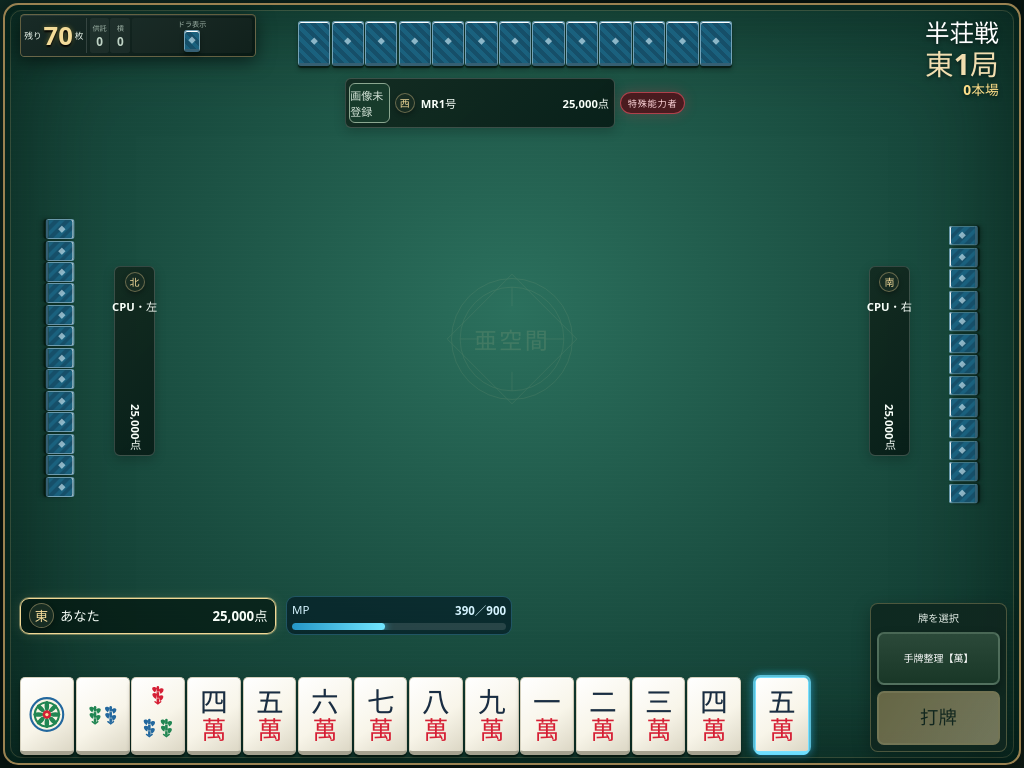
Test case: プレイヤースキル4-20の画面操作 › 確定でMPを消費し、同じ手番の再発動ボタンを消す
Click the button "手牌整理【萬】": click(938, 658) [877,632,1000,685]
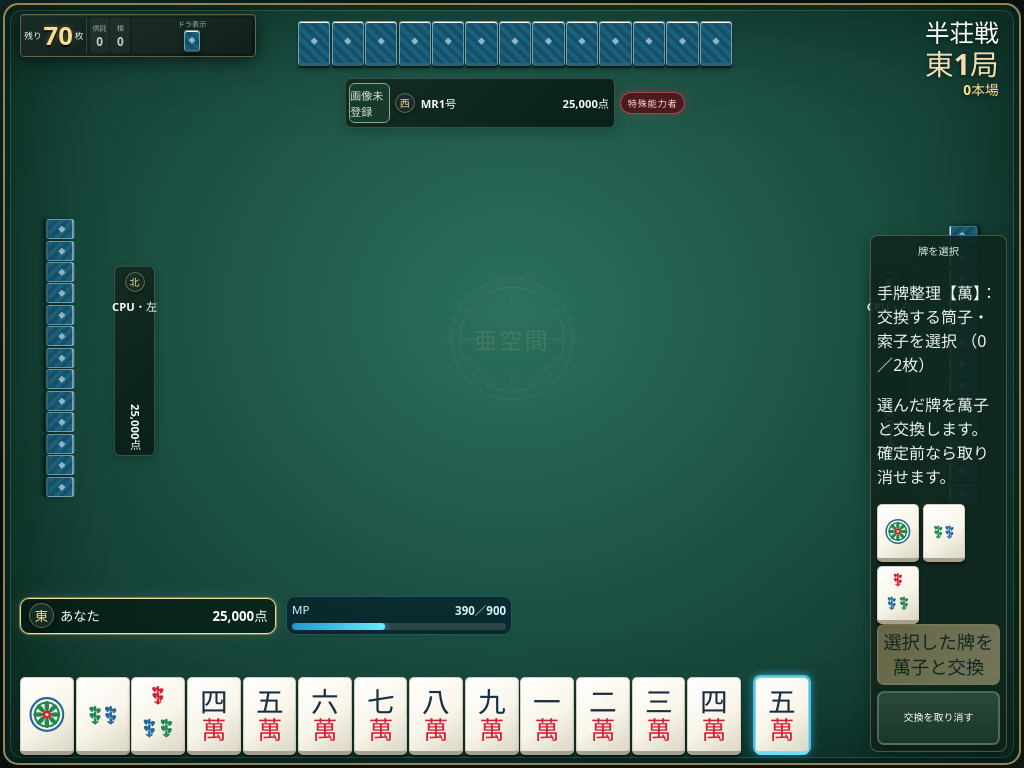
Click the button without text below "選んだ牌を萬子と交換します。 確定前なら取り消せます。": click(898, 533) [877,504,919,562]
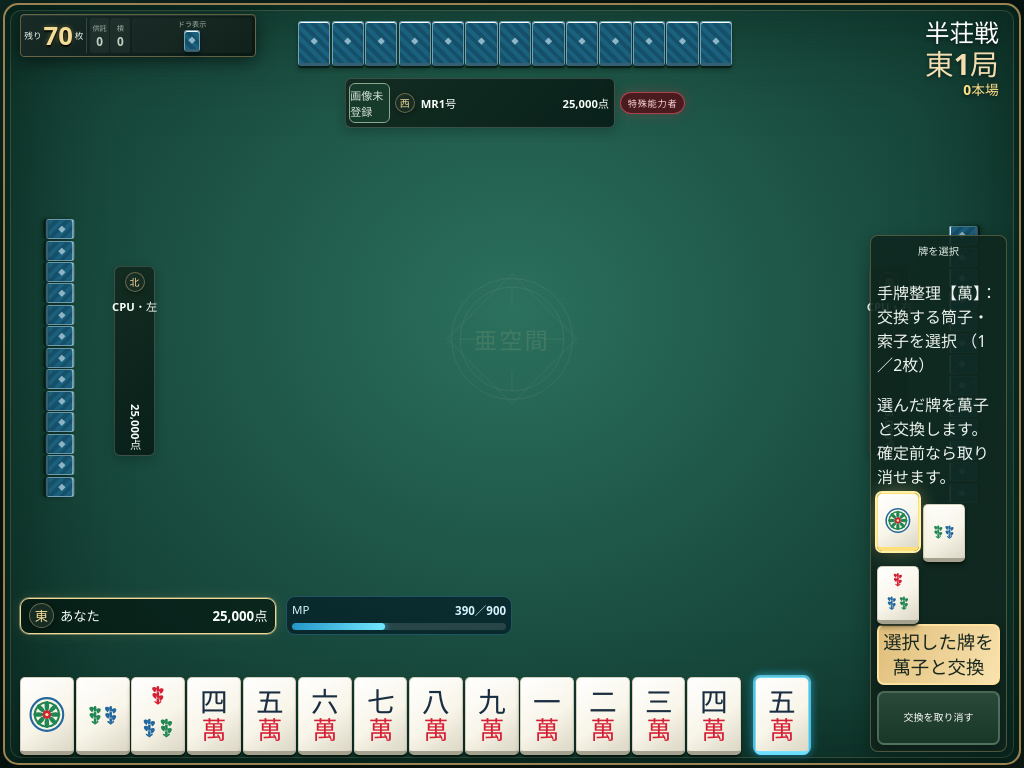
Click the button "選択した牌を萬子と交換": click(938, 655) [877,624,1000,685]
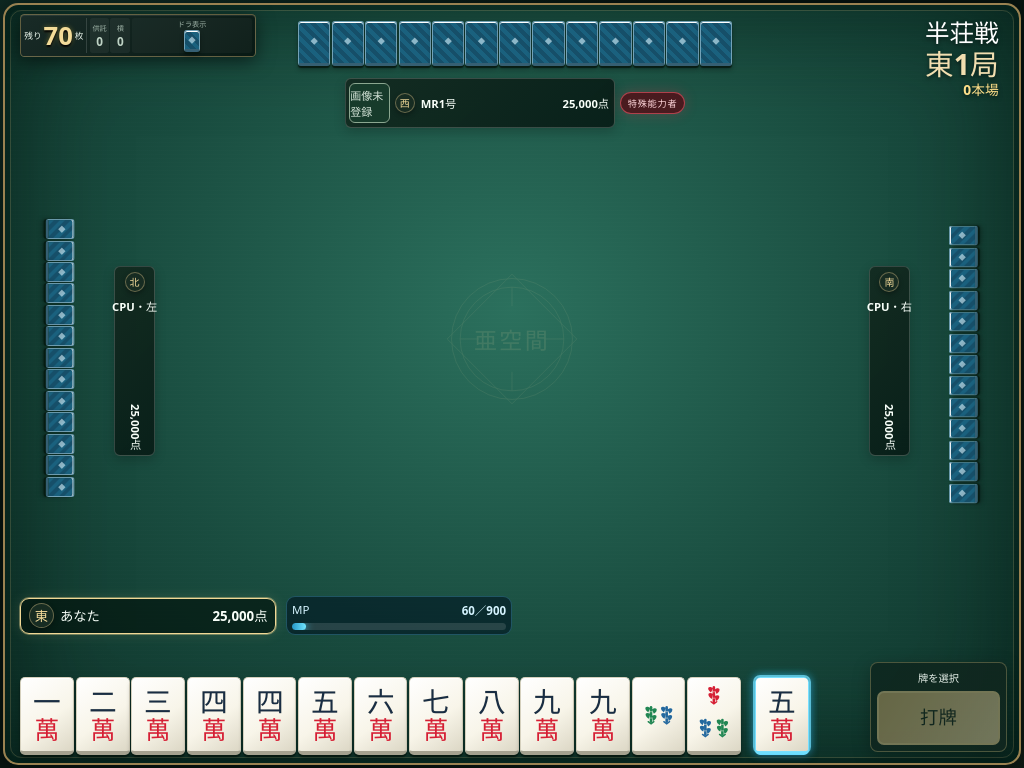
Check: the element "手牌整理【萬】の交換牌選択" is gone
Check: the message "手牌整理【萬】" is gone
Check: the button "打牌" is shown, box [877,691,1000,745]
